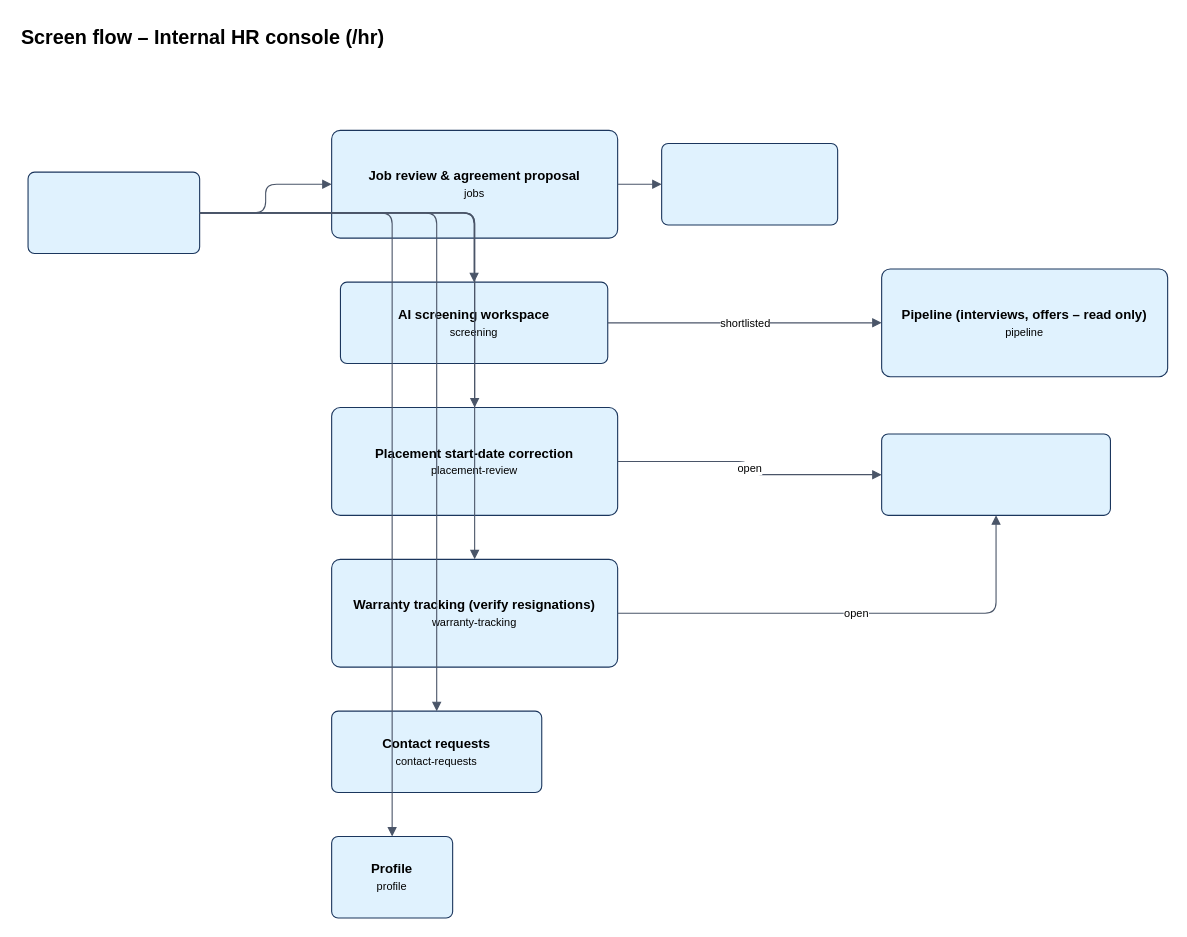
The diagram is 1187 pixels wide and 937 high, and some of its shapes have lost their labels. The centre of each missing label's shape, as x and y in pixels:
HR overview dashboard: (x=113, y=212)
JD templates job-templates: (x=749, y=183)
Placement detail placements/:placementId: (x=995, y=474)
